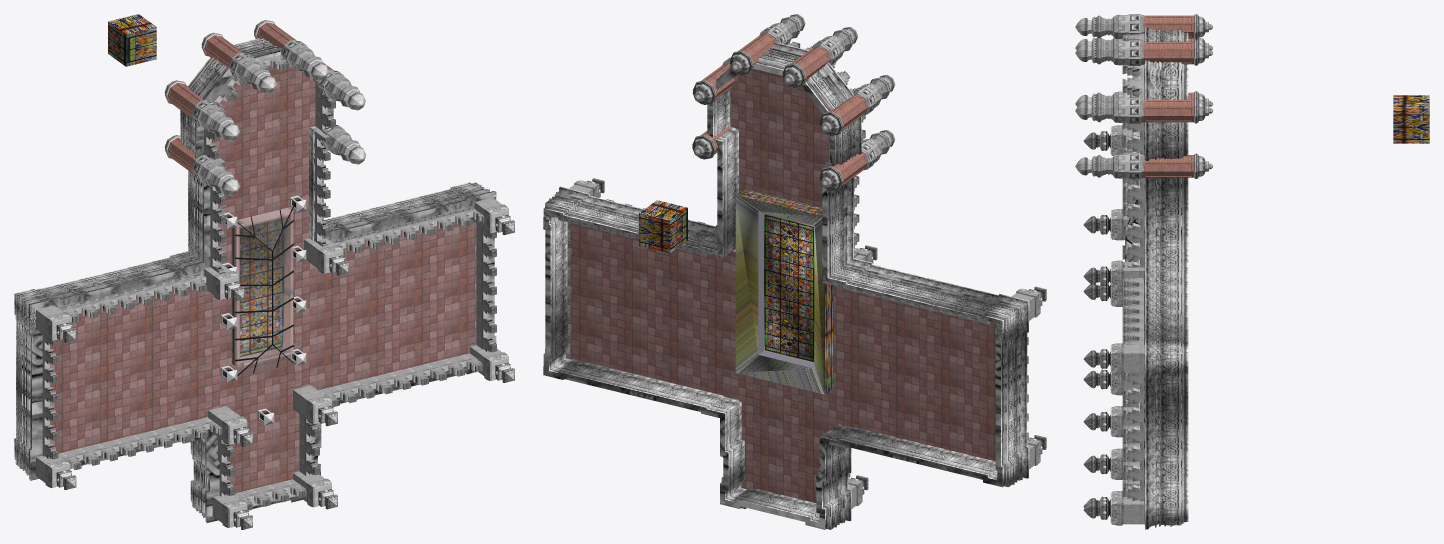
Rendered from castelo_mourisco_piso5.fbx.
3 views of the same model, side by side, from view 1: azimuth 30°, elevation 25°; view 2: azimuth 150°, elevation 25°; view 3: azimuth 270°, elevation 25° (orthographic). The views are drawn at different scales.
Visible parts, largest first — view 1: piso5, Acabamento Piso 5, Amurada arvore.001, Amurada pilares.001, telhado_vitral, vitral_teto_piso4, Cubo, Detalhe Torre Oeste 4, Detalhe Torre Oeste 3, Detalhe Torre Oeste 2, Detalhe Torre Oeste 6, Detalhe Torre Oeste 1 (+1 smaller); view 2: piso5, Acabamento Piso 5, vitral_teto_piso4, Amurada pilares.001, Cubo, Detalhe Torre Oeste 4, Detalhe Torre Oeste 3, Detalhe Torre Oeste 2, Detalhe Torre Oeste 6, Amurada arvore.001, Detalhe Torre Oeste 1, Detalhe Torre Oeste 5; view 3: Acabamento Piso 5, Amurada pilares.001, Amurada arvore.001, Detalhe Torre Oeste 1, Detalhe Torre Oeste 2, Detalhe Torre Oeste 5, Detalhe Torre Oeste 3, Cubo, Detalhe Torre Oeste 6.
Part boxes in pixels (box(x1,y1,x2,y2)): piso5: box(50, 65, 476, 493); Acabamento Piso 5: box(14, 38, 496, 522); Amurada arvore.001: box(42, 55, 496, 510); Amurada pilares.001: box(35, 197, 514, 529); telhado_vitral: box(235, 206, 293, 376); vitral_teto_piso4: box(231, 208, 292, 367); Cubo: box(108, 14, 156, 66); Detalhe Torre Oeste 4: box(164, 80, 239, 141); Detalhe Torre Oeste 3: box(201, 32, 276, 93); Detalhe Torre Oeste 2: box(254, 20, 328, 80); Detalhe Torre Oeste 6: box(165, 135, 239, 195); Detalhe Torre Oeste 1: box(313, 63, 365, 110); piso5: box(570, 69, 997, 502); Acabamento Piso 5: box(543, 42, 1029, 529); vitral_teto_piso4: box(735, 189, 833, 394); Amurada pilares.001: box(566, 178, 1046, 508); Cubo: box(639, 200, 687, 253); Detalhe Torre Oeste 4: box(819, 74, 895, 135); Detalhe Torre Oeste 3: box(782, 26, 858, 87); Detalhe Torre Oeste 2: box(730, 14, 805, 75); Detalhe Torre Oeste 6: box(819, 130, 895, 190); Amurada arvore.001: box(566, 41, 1028, 477); Detalhe Torre Oeste 1: box(692, 57, 734, 104); Detalhe Torre Oeste 5: box(692, 125, 732, 159); Acabamento Piso 5: box(1143, 27, 1188, 529); Amurada pilares.001: box(1083, 125, 1144, 525); Amurada arvore.001: box(1122, 33, 1144, 501); Detalhe Torre Oeste 1: box(1075, 97, 1213, 123); Detalhe Torre Oeste 2: box(1075, 40, 1212, 65); Detalhe Torre Oeste 5: box(1075, 153, 1213, 179); Detalhe Torre Oeste 3: box(1075, 14, 1212, 39); Cubo: box(1393, 95, 1429, 143); Detalhe Torre Oeste 6: box(1075, 91, 1212, 106).
Size of the model in its own units: 3021 by 2878 by 1948.
14 materials, 12 textured.
